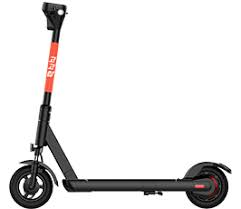kick_board: (10, 1, 231, 209)
kick_body: (76, 180, 183, 191)
kick_handler: (42, 1, 67, 29)
kick_neck: (31, 33, 60, 154)
kick_wheel: (185, 163, 230, 208), (9, 164, 53, 209)
